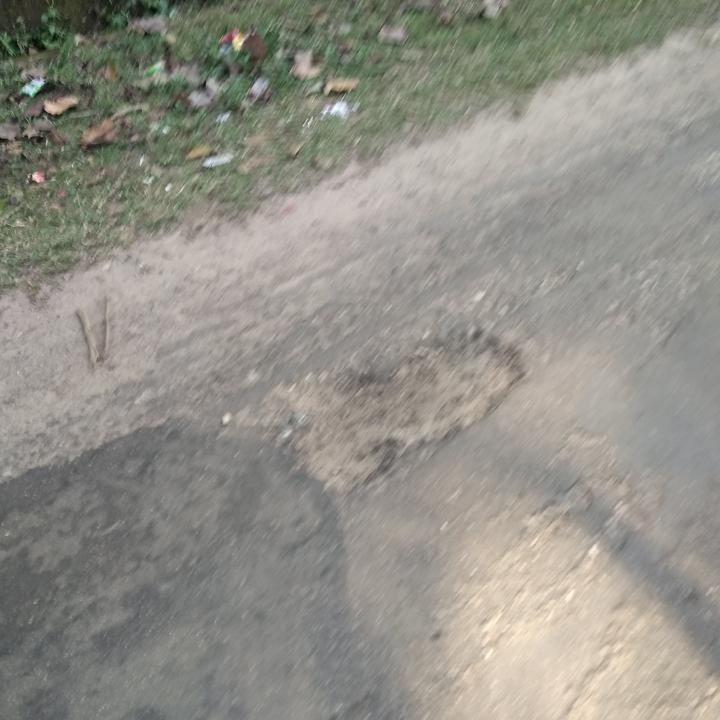pothole: (283, 323, 531, 490)
